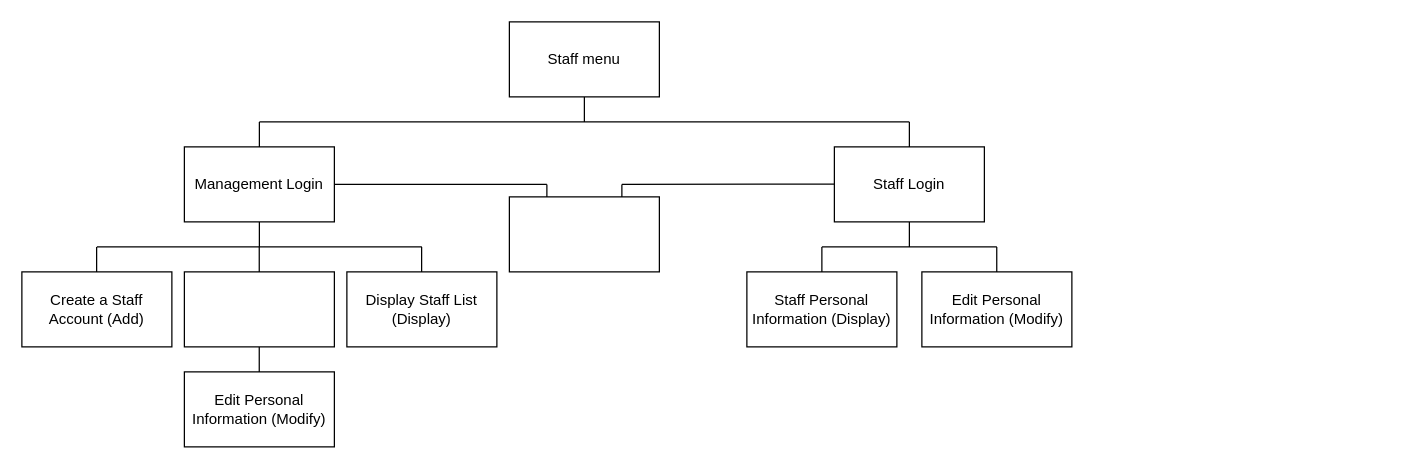
This 1406x469 diagram has some shape labels left out. The centre of each missing label's shape, as x and y in pixels:
Password Recovery （Modify）: the point at 583,234
Personal Profile (Display): the point at 258,309
